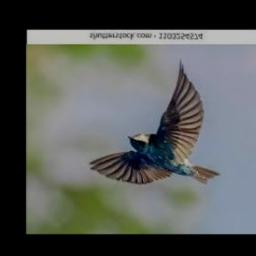Swallow: (89, 59, 220, 186)
